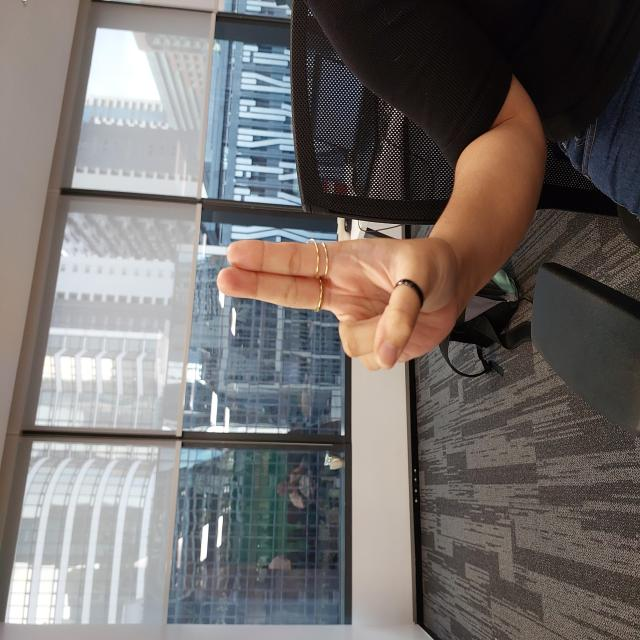U: (266, 215, 406, 467)
